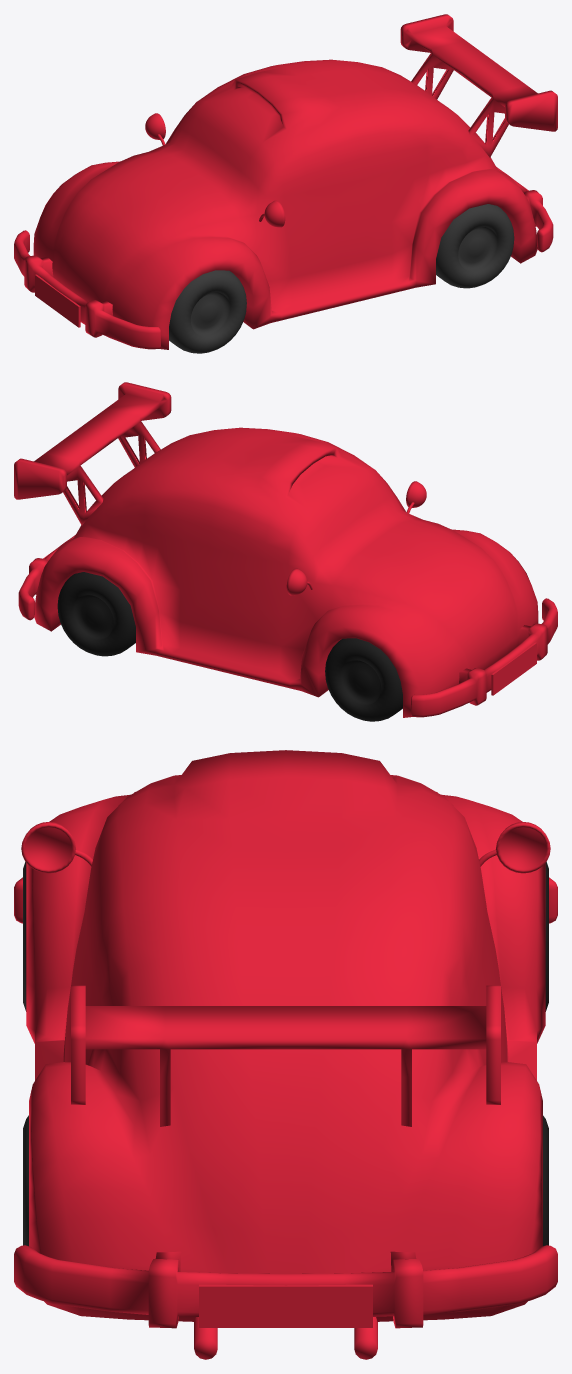
The model's file is car_01.glb.
The picture shows the model from 3 angles, top to bottom: view 1: azimuth 30°, elevation 25°; view 2: azimuth 150°, elevation 25°; view 3: azimuth 270°, elevation 25°; orthographic projection. The views are drawn at different scales.
Parts seen in each view (by area): view 1: Plane.007; view 2: Plane.007; view 3: Plane.007.
Part boxes in pixels (left/top/right/bottom): Plane.007: left=14, top=14, right=557, bottom=353; Plane.007: left=14, top=382, right=557, bottom=721; Plane.007: left=14, top=750, right=557, bottom=1359.
Bounding box in the file's own units: 3.73 × 1.46 × 1.91.
